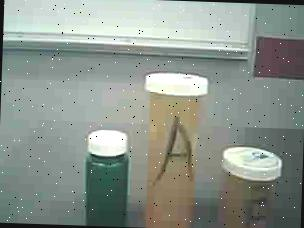Bottle A: (135, 71, 211, 228)
Bottle B: (213, 144, 284, 228)
Bottle C: (80, 124, 134, 228)
